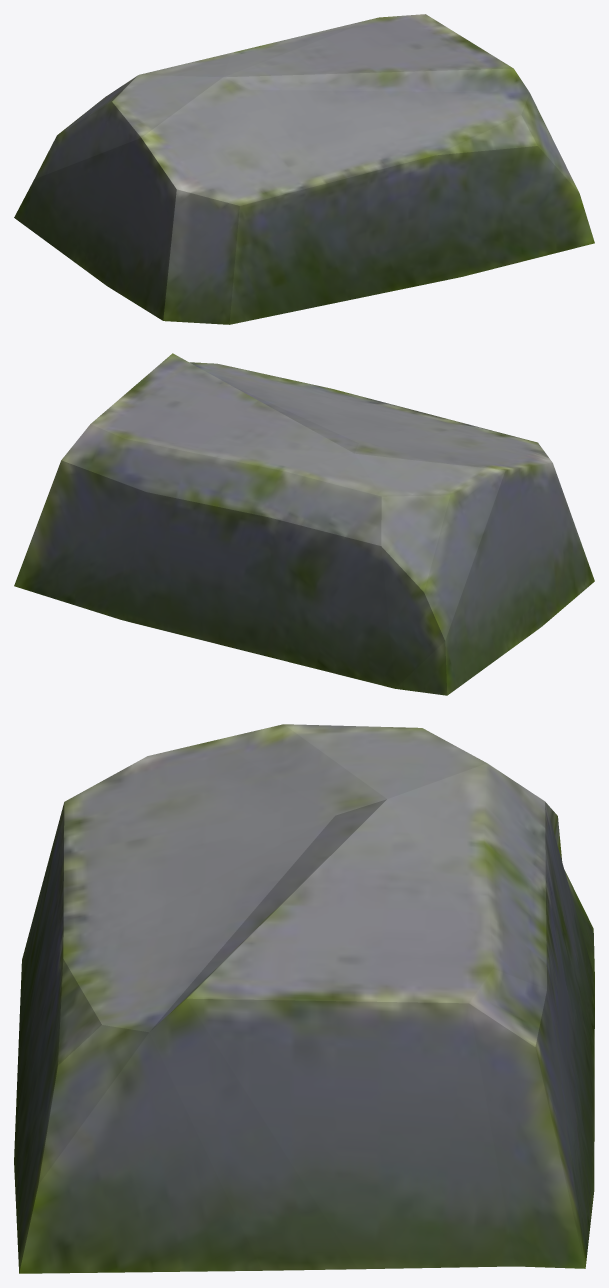
The model's file is pebble_square_2.gltf.
3 views of the same model, one above another, from view 1: azimuth 30°, elevation 25°; view 2: azimuth 150°, elevation 25°; view 3: azimuth 270°, elevation 25° (orthographic). The views are drawn at different scales.
Parts seen in each view (by area): view 1: Pebble_Square_2; view 2: Pebble_Square_2; view 3: Pebble_Square_2.
Part boxes in pixels (left/top/right/bottom): Pebble_Square_2: left=14, top=14, right=594, bottom=324; Pebble_Square_2: left=14, top=353, right=594, bottom=695; Pebble_Square_2: left=14, top=724, right=594, bottom=1273.
Bounding box in the file's own units: 0.3911 × 0.1404 × 0.2803.
1 material, 1 textured.
